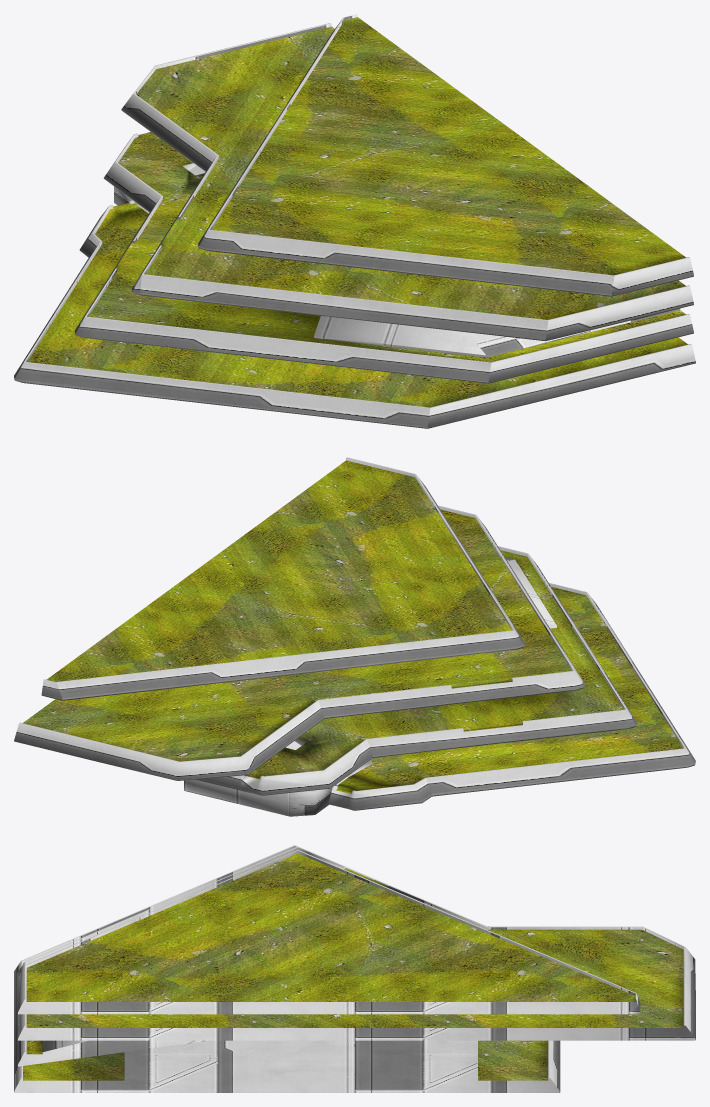
The model's file is PRS_TERRACE.FBX.
3 views of the same model, one above another, from view 1: azimuth 30°, elevation 25°; view 2: azimuth 150°, elevation 25°; view 3: azimuth 270°, elevation 25° (orthographic). The views are drawn at different scales.
Parts seen in each view (by area): view 1: PRS_TERRACE; view 2: PRS_TERRACE; view 3: PRS_TERRACE.
Boxes of the visible parts, x1,y1,x2,y2 form: PRS_TERRACE: (14,14,695,428); PRS_TERRACE: (14,457,695,816); PRS_TERRACE: (14,845,695,1092).
Size of the model in its own units: 102 by 19.01 by 124.
